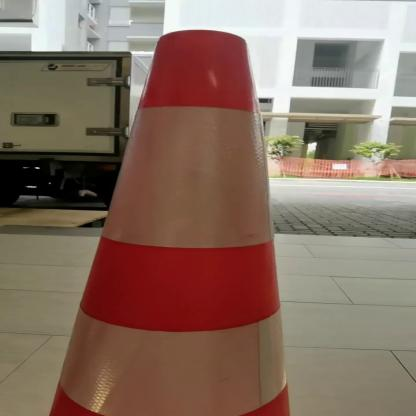cone: (52, 23, 302, 416)
